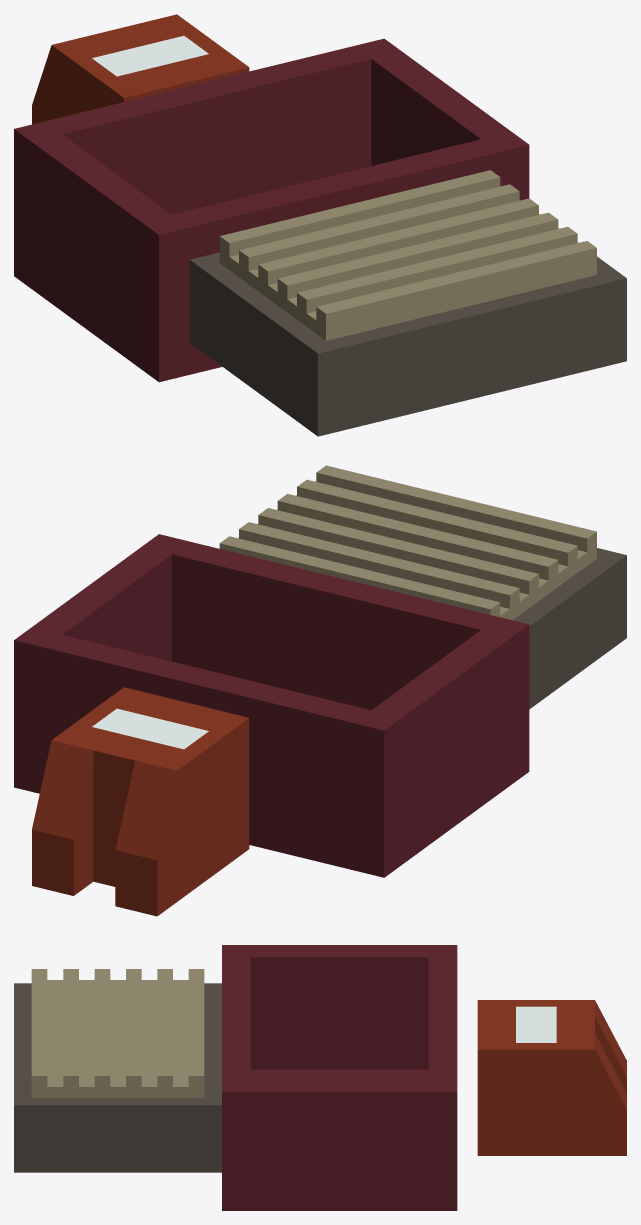
File: heart_surgery.fbx
3 views of the same model, one above another, from view 1: azimuth 30°, elevation 25°; view 2: azimuth 150°, elevation 25°; view 3: azimuth 270°, elevation 25° (orthographic). The views are drawn at different scales.
Visible parts, largest first — view 1: body_1; view 2: body_1; view 3: body_1.
Part boxes in pixels (x1=…): body_1: x1=14, y1=14, x2=626, y2=436; body_1: x1=14, y1=465, x2=626, y2=916; body_1: x1=14, y1=945, x2=626, y2=1210.
Bounding box in the file's own units: 662 × 251 × 1170.
